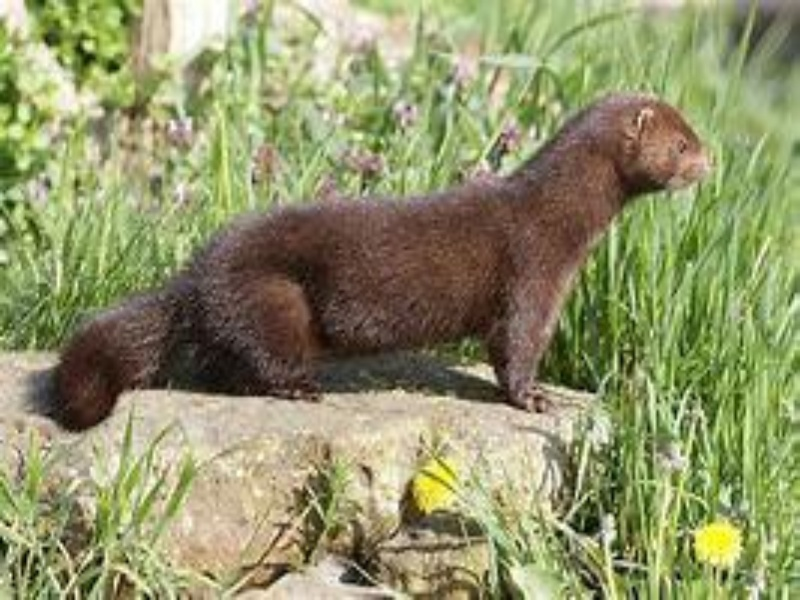minkish: (45, 89, 714, 437)
